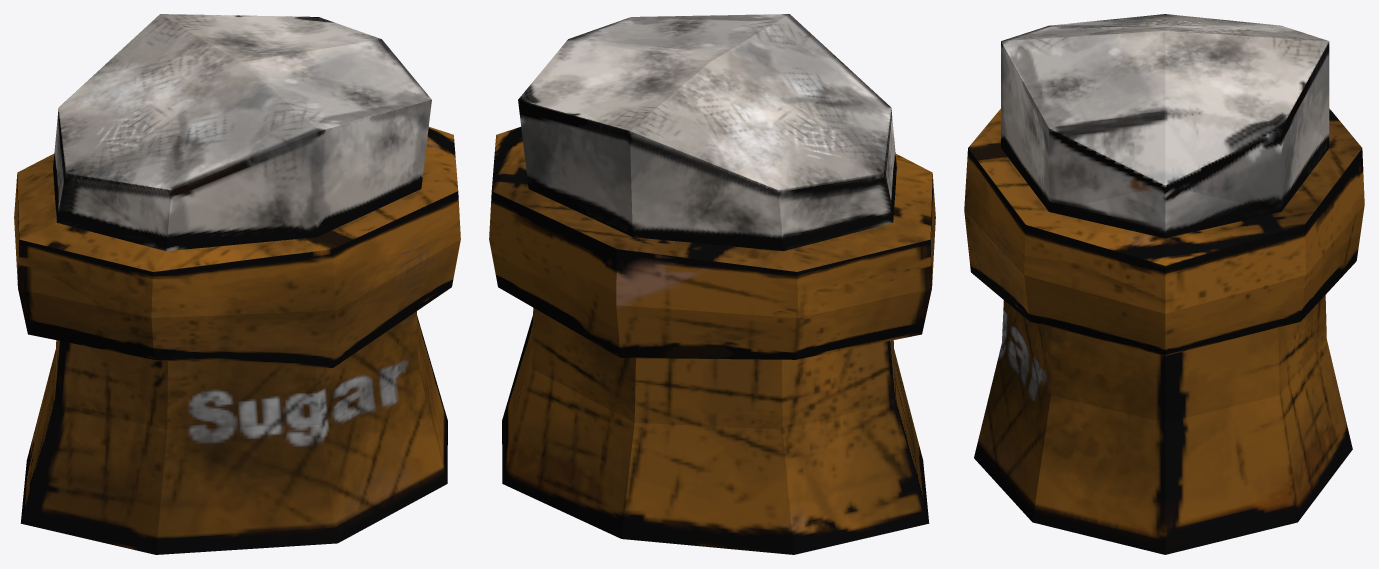
The model's file is sugar_2.glb.
The picture shows the model from 3 angles, left to right: view 1: azimuth 30°, elevation 25°; view 2: azimuth 150°, elevation 25°; view 3: azimuth 270°, elevation 25°; orthographic projection. The views are drawn at different scales.
Parts seen in each view (by area): view 1: Sugar Var 2; view 2: Sugar Var 2; view 3: Sugar Var 2.
Boxes of the visible parts, x1,y1,x2,y2 form: Sugar Var 2: (14, 14, 460, 554); Sugar Var 2: (489, 14, 935, 554); Sugar Var 2: (964, 14, 1364, 554).
Bounding box in the file's own units: 0.1874 × 0.1693 × 0.1446.
1 material, 1 textured.
